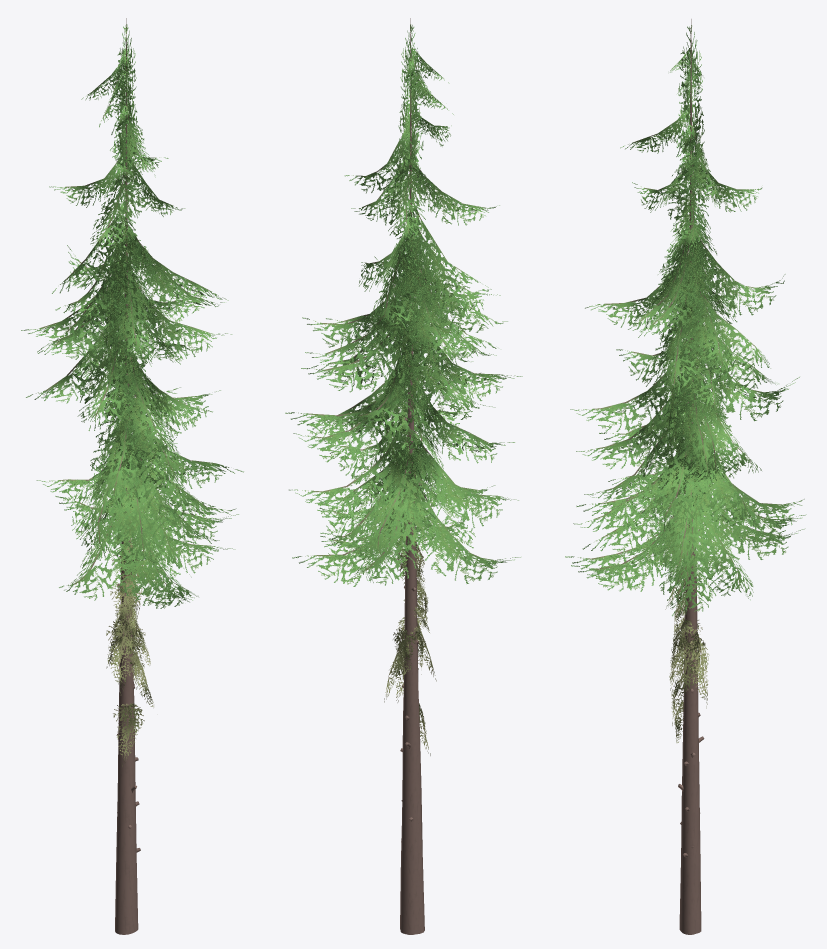
Rendered from tree_Pine_XL1_LOD0.fbx.
3 renders of one model, left to right at view 1: azimuth 30°, elevation 25°; view 2: azimuth 150°, elevation 25°; view 3: azimuth 270°, elevation 25°, orthographic.
Parts seen in each view (by area): view 1: Pine_XL1_LOD0; view 2: Pine_XL1_LOD0; view 3: Pine_XL1_LOD0.
Part boxes in pixels (x1,y1,x2,y2): Pine_XL1_LOD0: [21, 18, 243, 934]; Pine_XL1_LOD0: [285, 18, 522, 934]; Pine_XL1_LOD0: [565, 19, 806, 934].
Size of the model in its own units: 965 by 3894 by 985.
